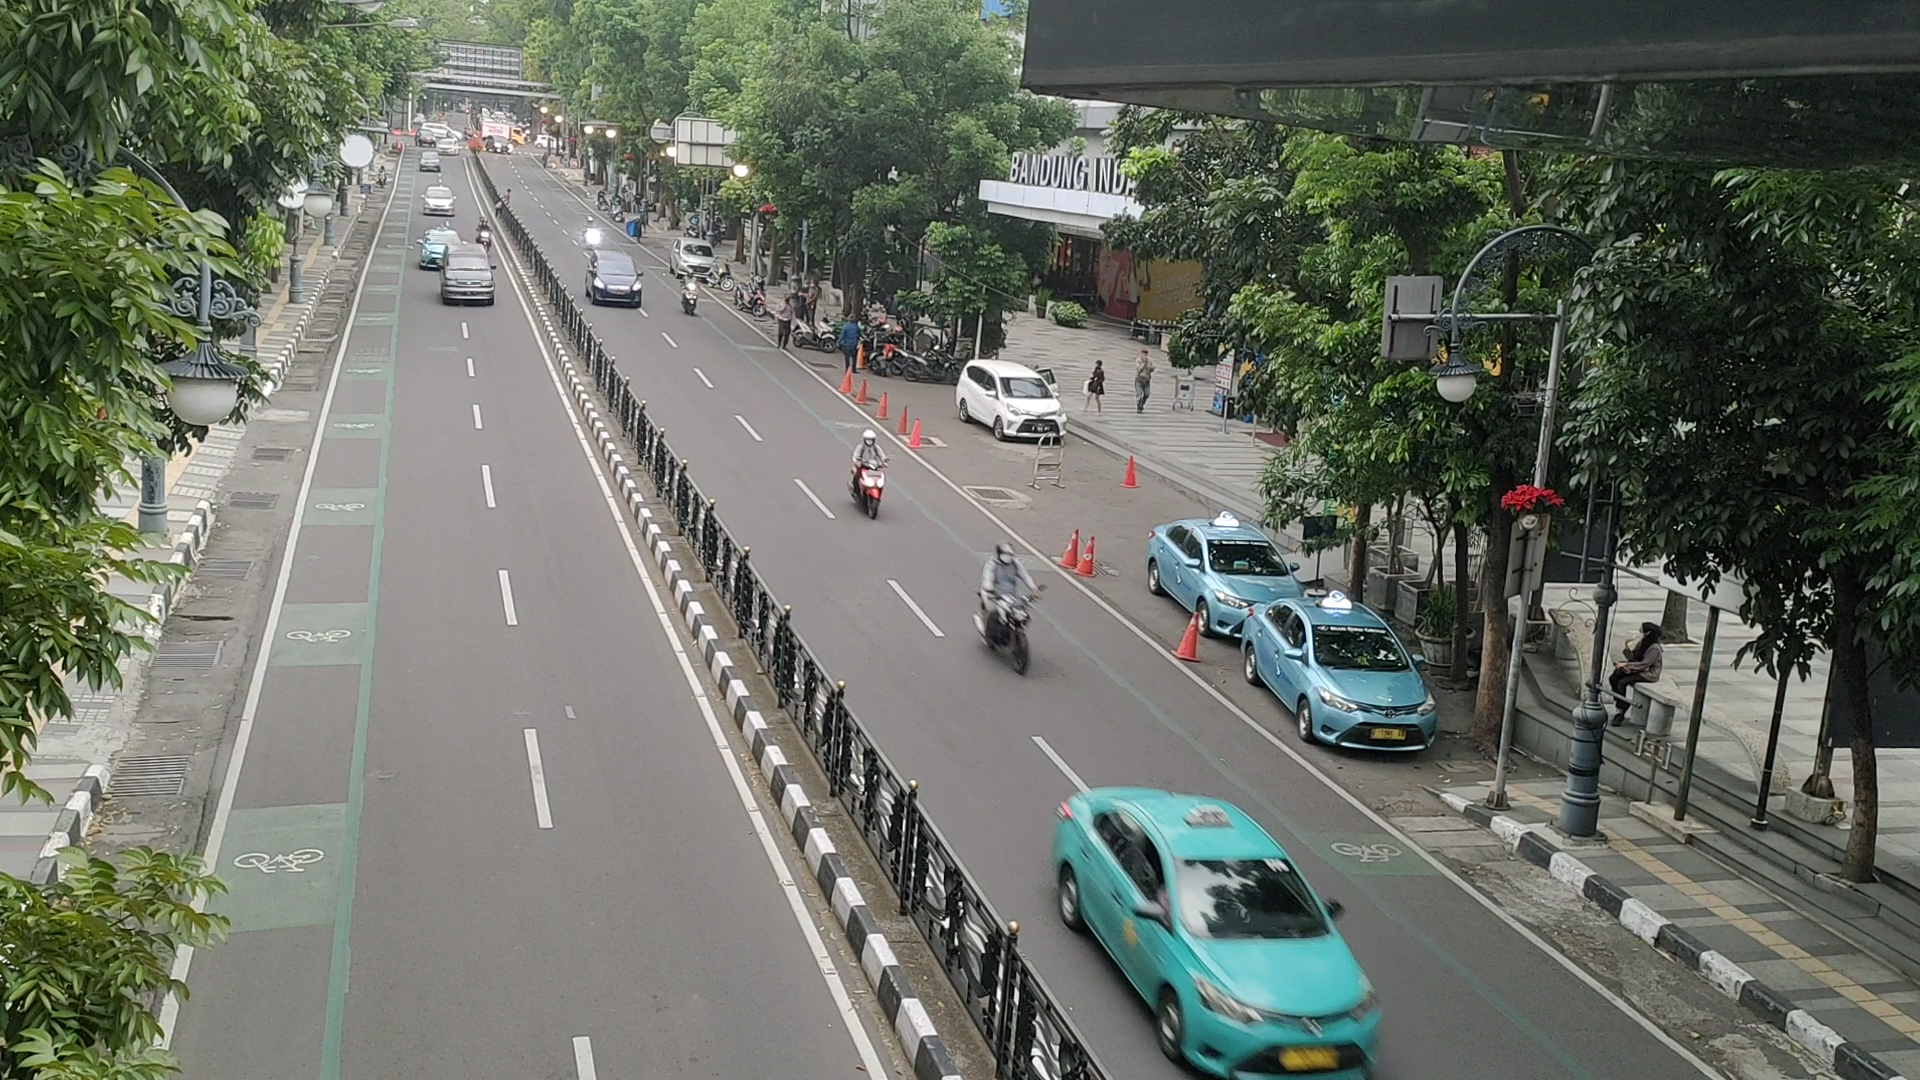mobil: (1146, 855, 1385, 1077), (1298, 622, 1437, 760), (992, 369, 1071, 444)
motor: (973, 525, 1050, 679), (845, 411, 897, 529)
